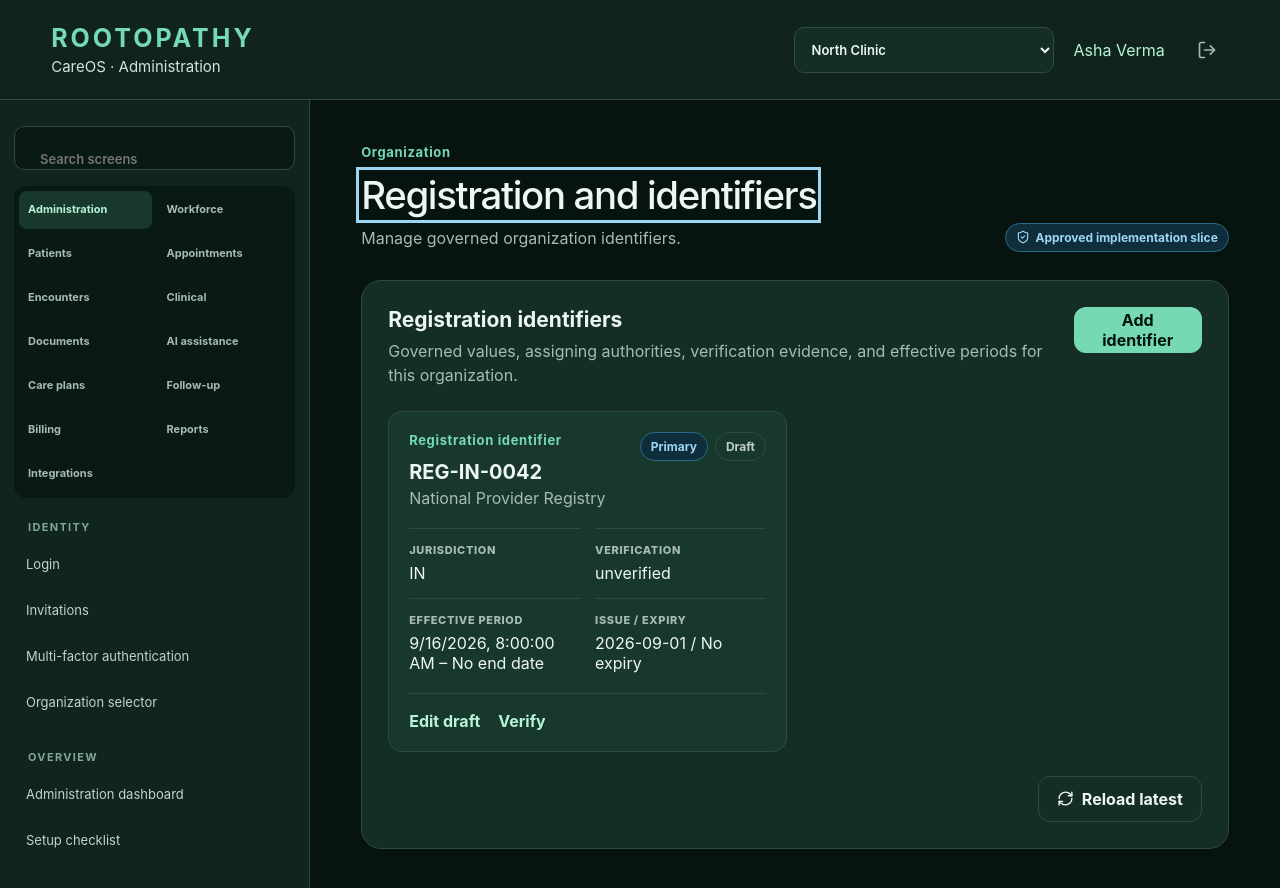
CareOS frontend session boundary › verifies an identifier with its strong revision, evidence, and retry key
Check: the heading "REG-IN-0042" is shown, box [409, 460, 542, 484]
Click the button "Verify".
click(522, 721)  # box [498, 711, 546, 731]
(page scrolled)
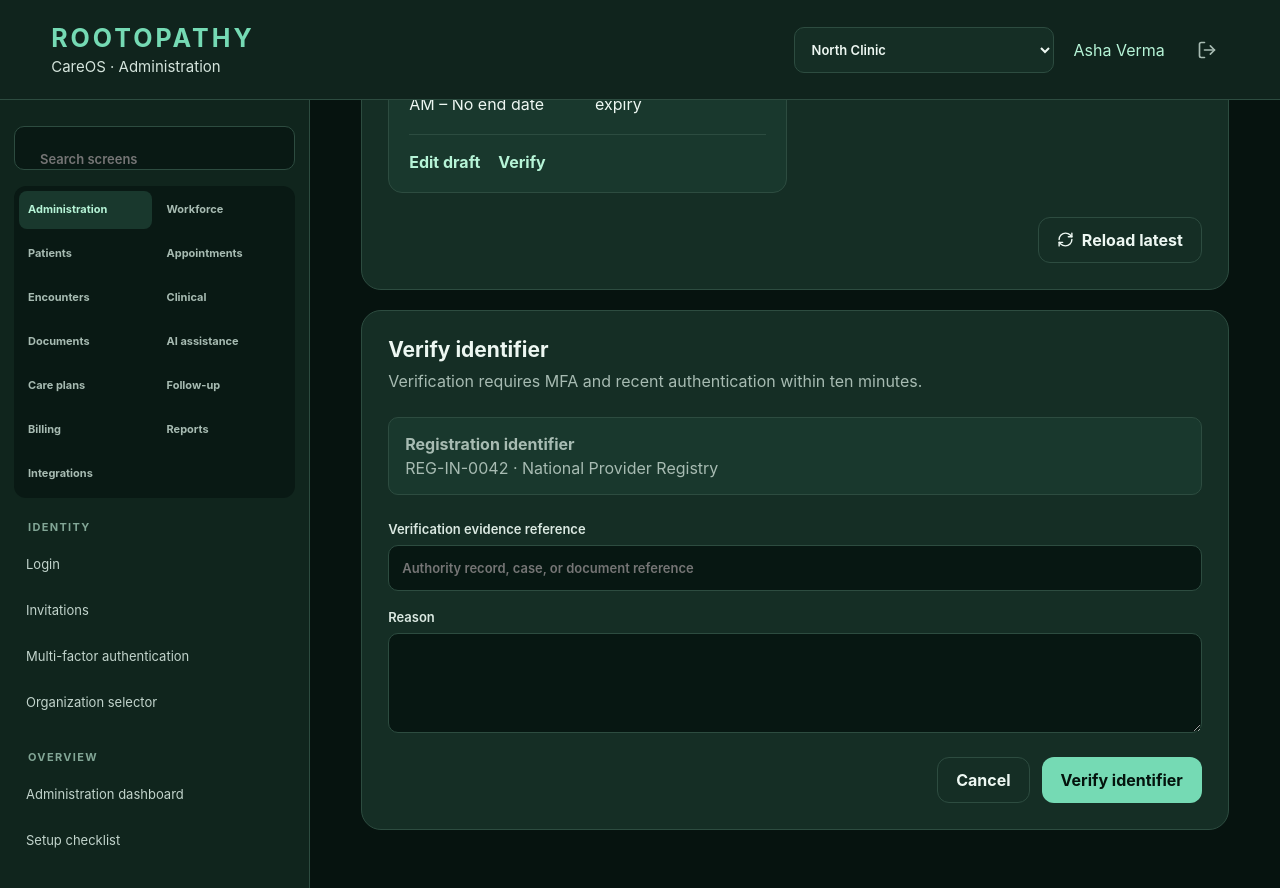
Type "NPR-CASE-2026-1042" into the field labelled "Verification evidence reference".
click(795, 568); type("NPR-CASE-2026-1042")  # box [388, 545, 1202, 591]
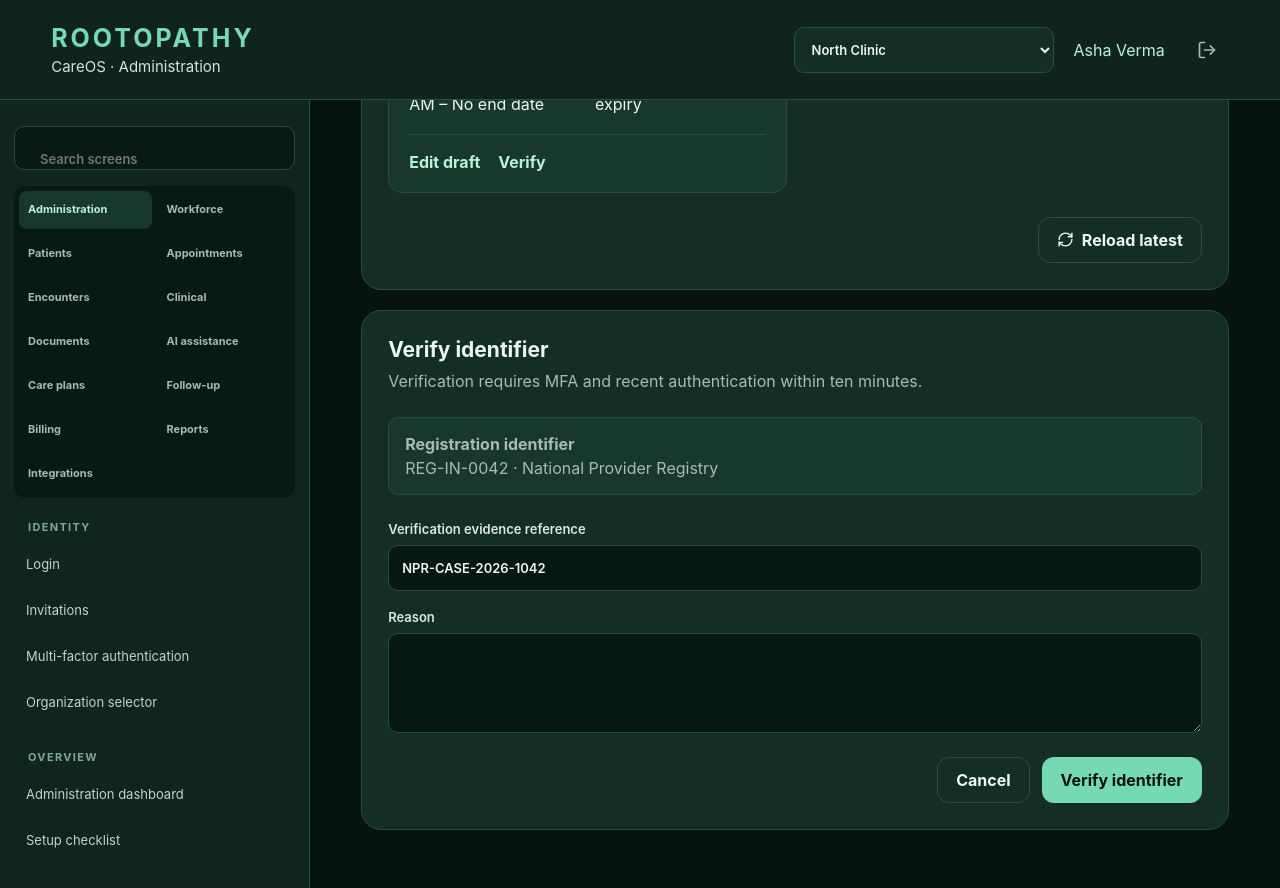
Type "Authority verification completed CARE-1042" into the text box labelled "Reason".
click(795, 683); type("Authority verification completed CARE-1042")  # box [388, 633, 1202, 733]
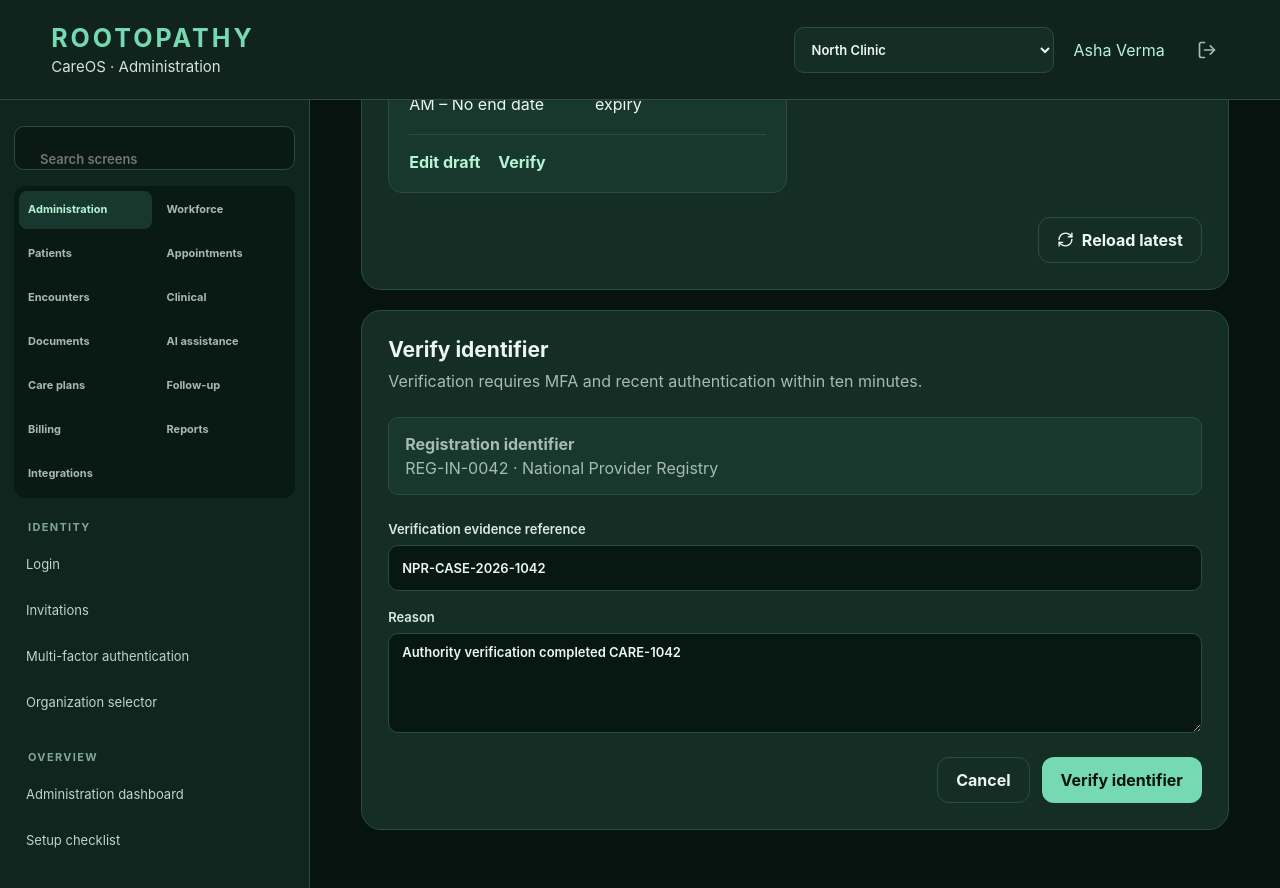
Click the button "Verify identifier".
click(1122, 780)  # box [1042, 757, 1202, 803]
(page scrolled)
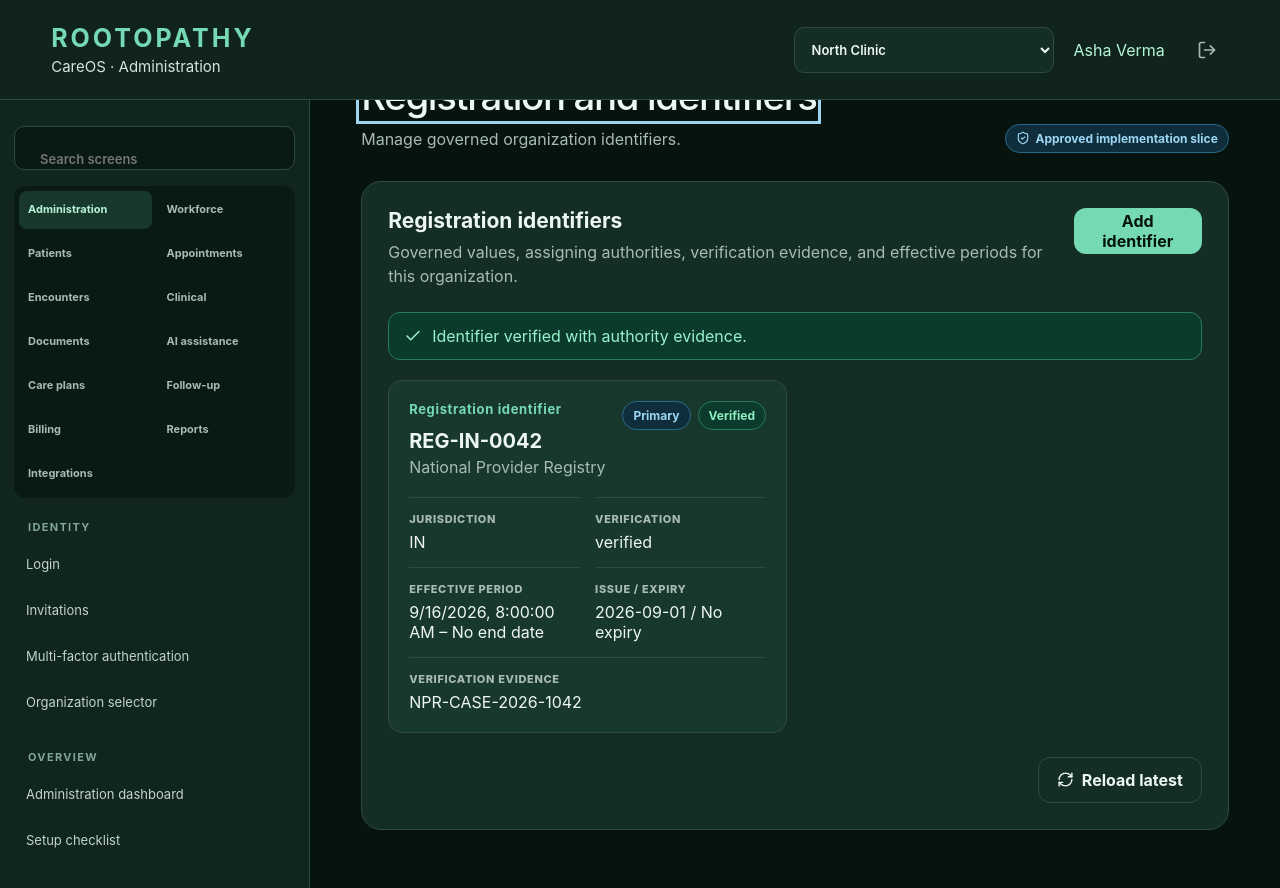
Check: the message shows "Identifier verified with authority evidence", box [432, 326, 747, 346]
Check: the text "NPR-CASE-2026-1042" is shown, box [409, 692, 582, 712]
